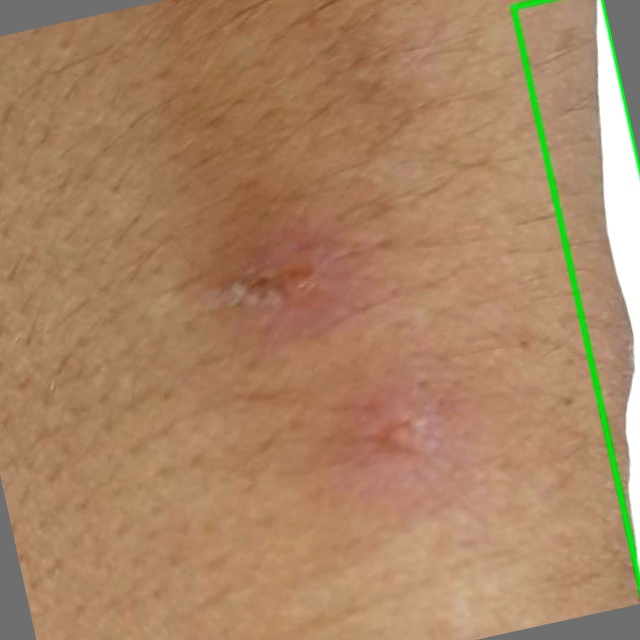Scabies: (513, 0, 639, 582)
